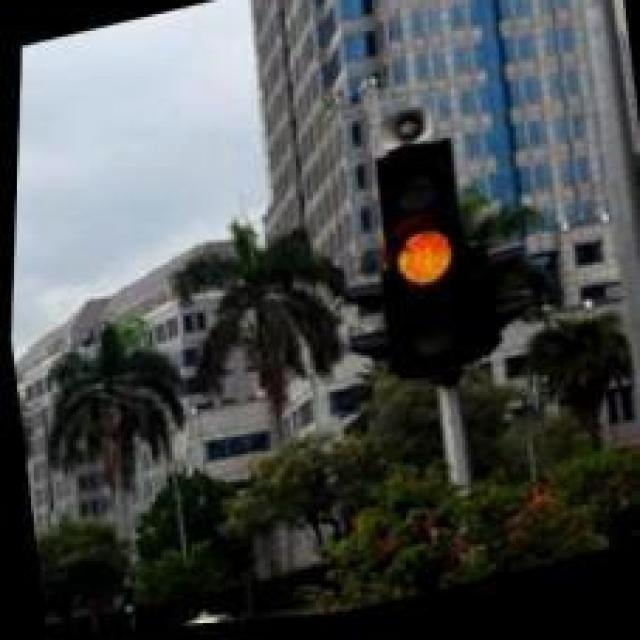Yellow: (313, 133, 504, 408)
